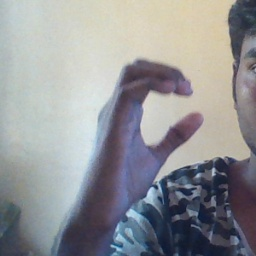C: (109, 53, 212, 163)
